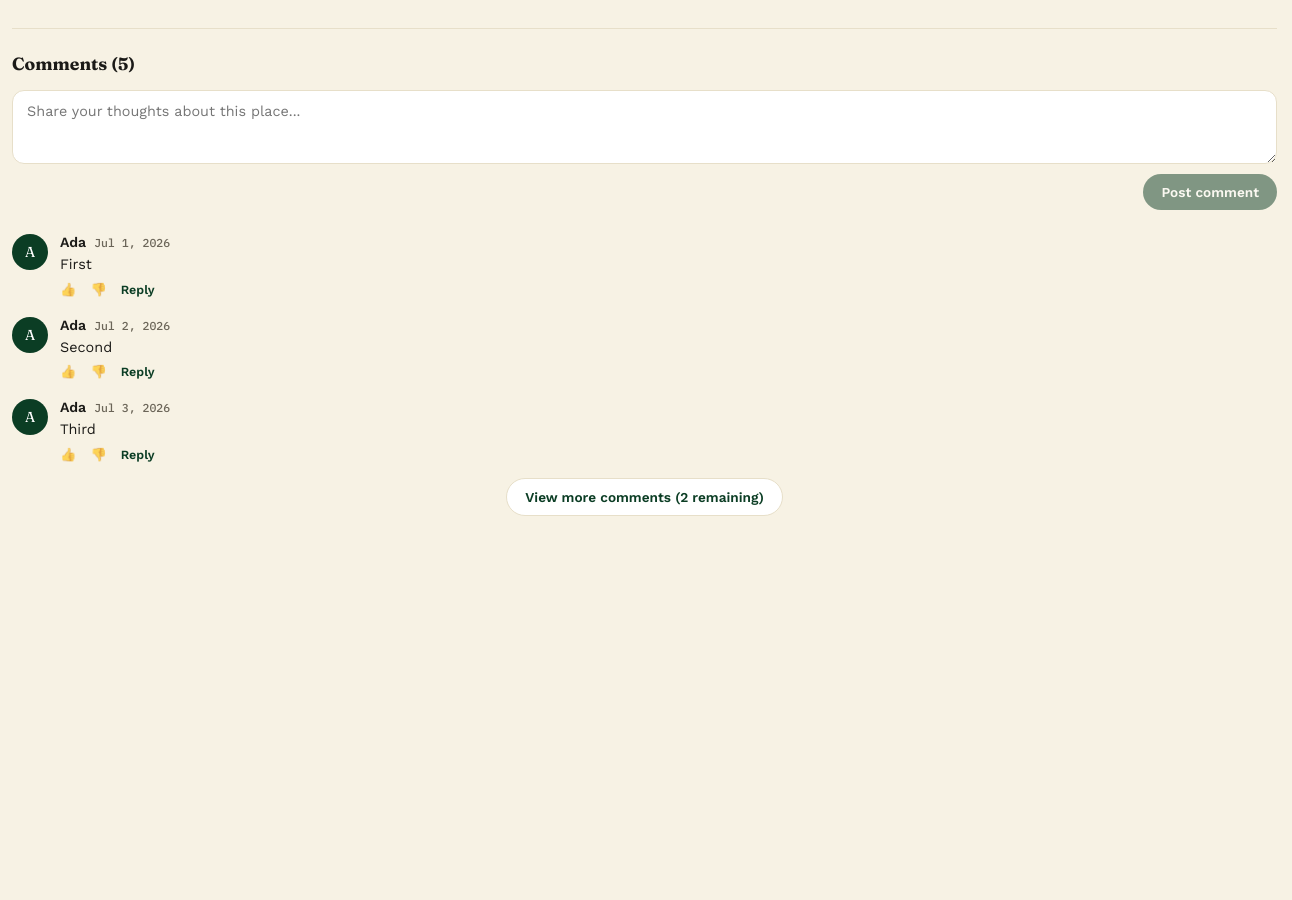
CommentSection › paginates root comments 3 at a time
Expected: the text "First" is shown, [60,256,92,272]
Expected: the text "Fourth" is not shown
Click the button "View more comments (2 remaining)" at (644, 497), box [506,478,783,516]
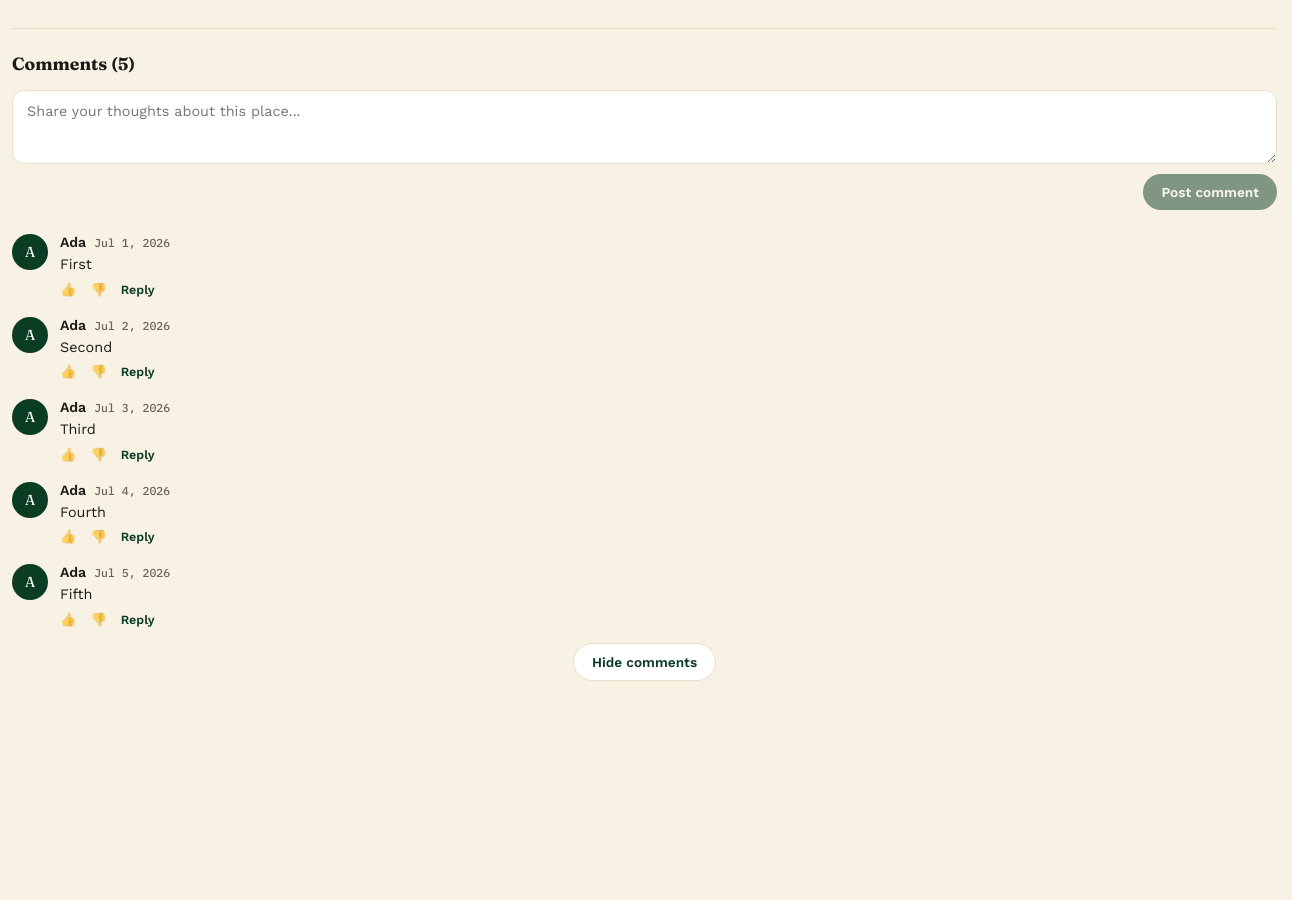
Expected: the text "Fourth" is shown, [60,504,106,520]
Expected: the text "Fifth" is shown, [60,586,92,602]
Expected: the button "View more comments" is gone
Click the button "Hide comments" at (644, 662), box [573,643,716,681]
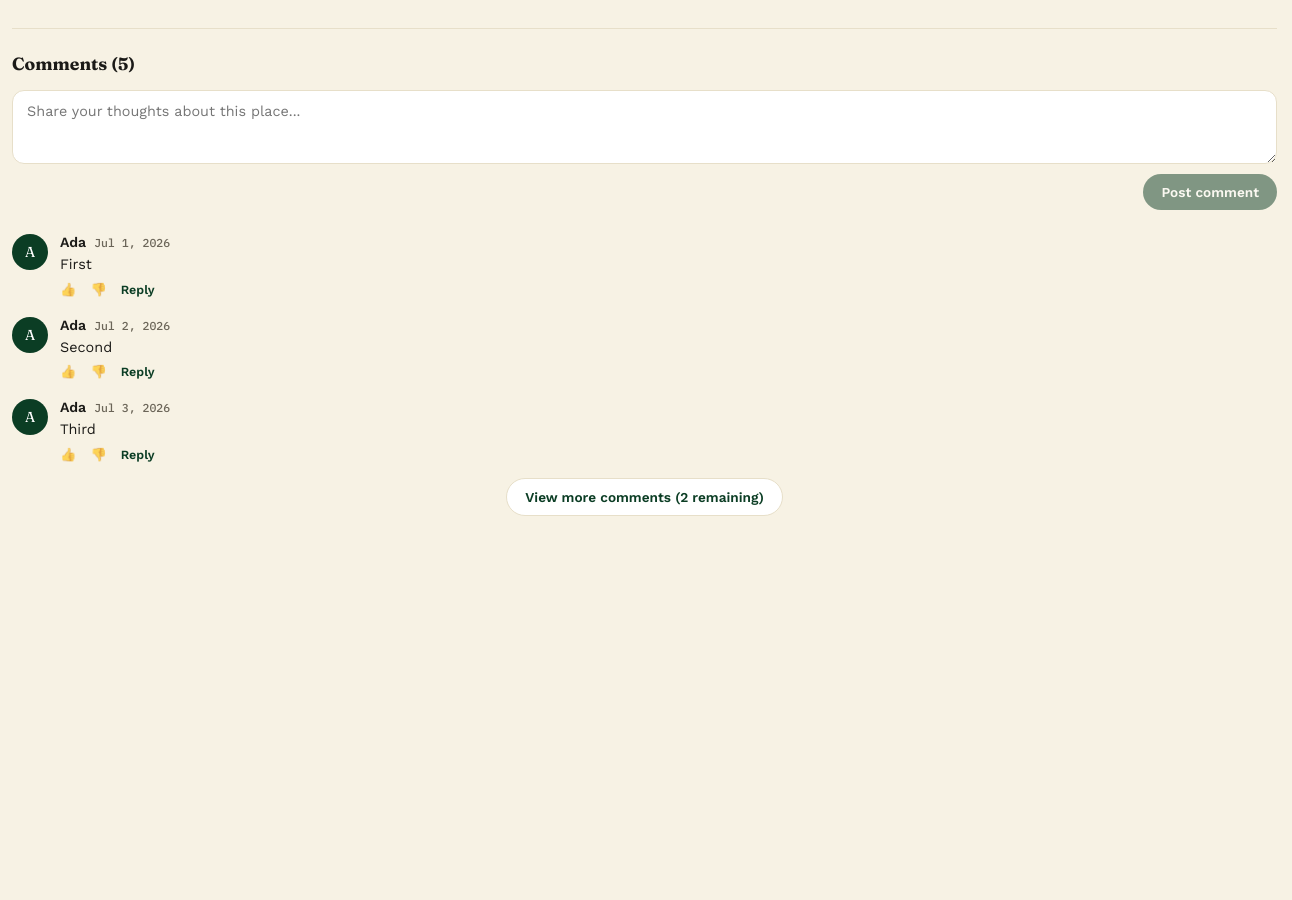
Expected: the text "Fourth" is gone
Expected: the text "Fifth" is gone
Expected: the button "View more comments (2 remaining)" is shown, [506,478,783,516]
